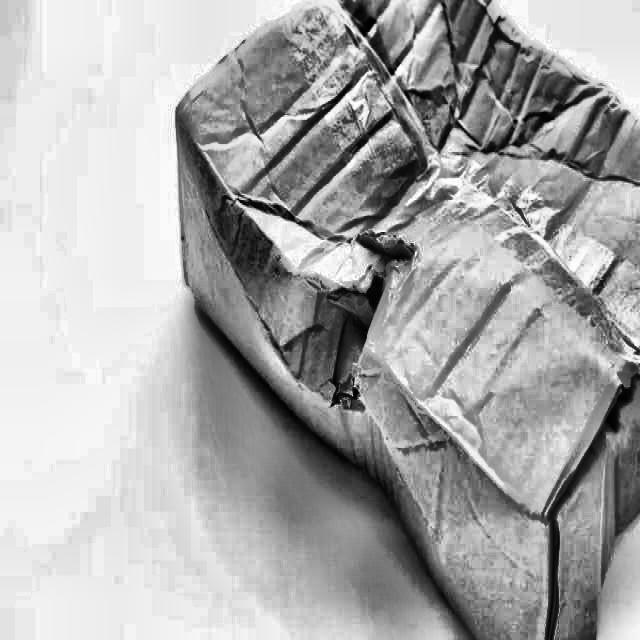box: (170, 0, 639, 639)
hole: (308, 224, 431, 386)
